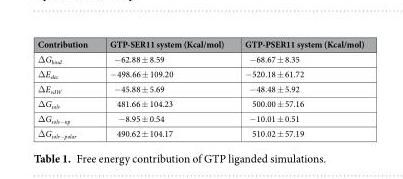table: (36, 37, 363, 139)
table column: (98, 37, 233, 139), (233, 37, 363, 139), (36, 37, 98, 139)
table column header: (36, 37, 363, 51)
table row: (36, 51, 363, 66), (36, 66, 363, 81), (36, 81, 363, 96), (36, 110, 363, 125), (36, 37, 363, 51), (36, 96, 363, 110), (36, 125, 363, 139)
